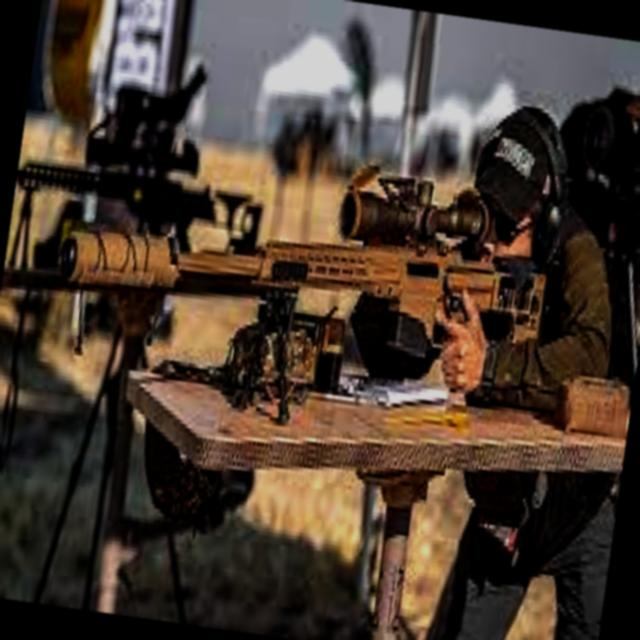rifle: (20, 116, 580, 422), (5, 90, 274, 296)
